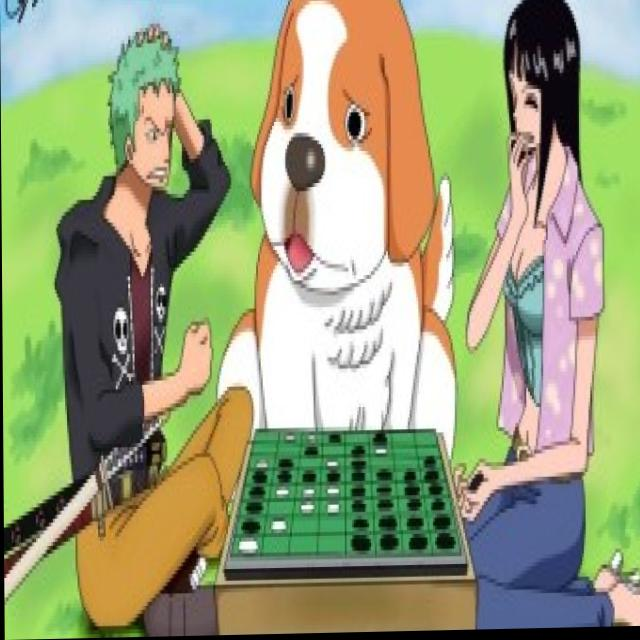NicoRobin: (501, 0, 590, 192)
Zoro: (100, 23, 185, 214)
